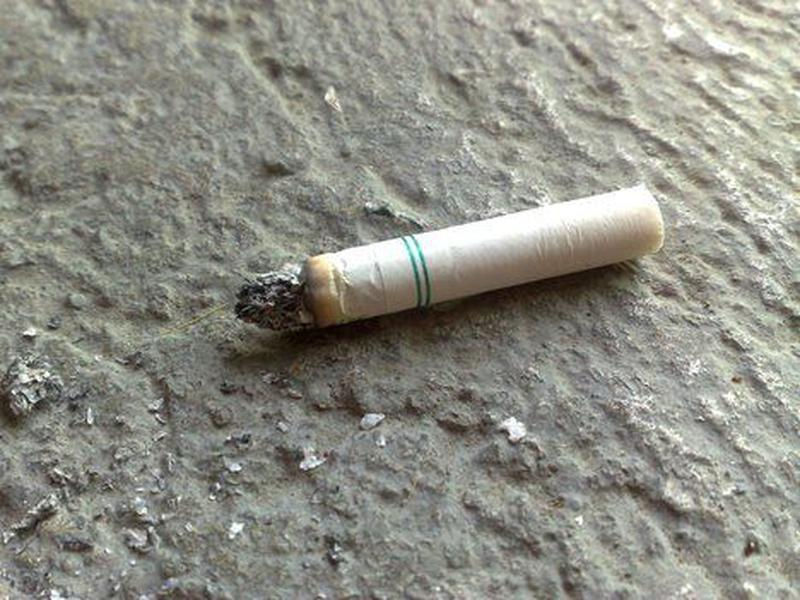burned_cigarette: (230, 178, 668, 333)
